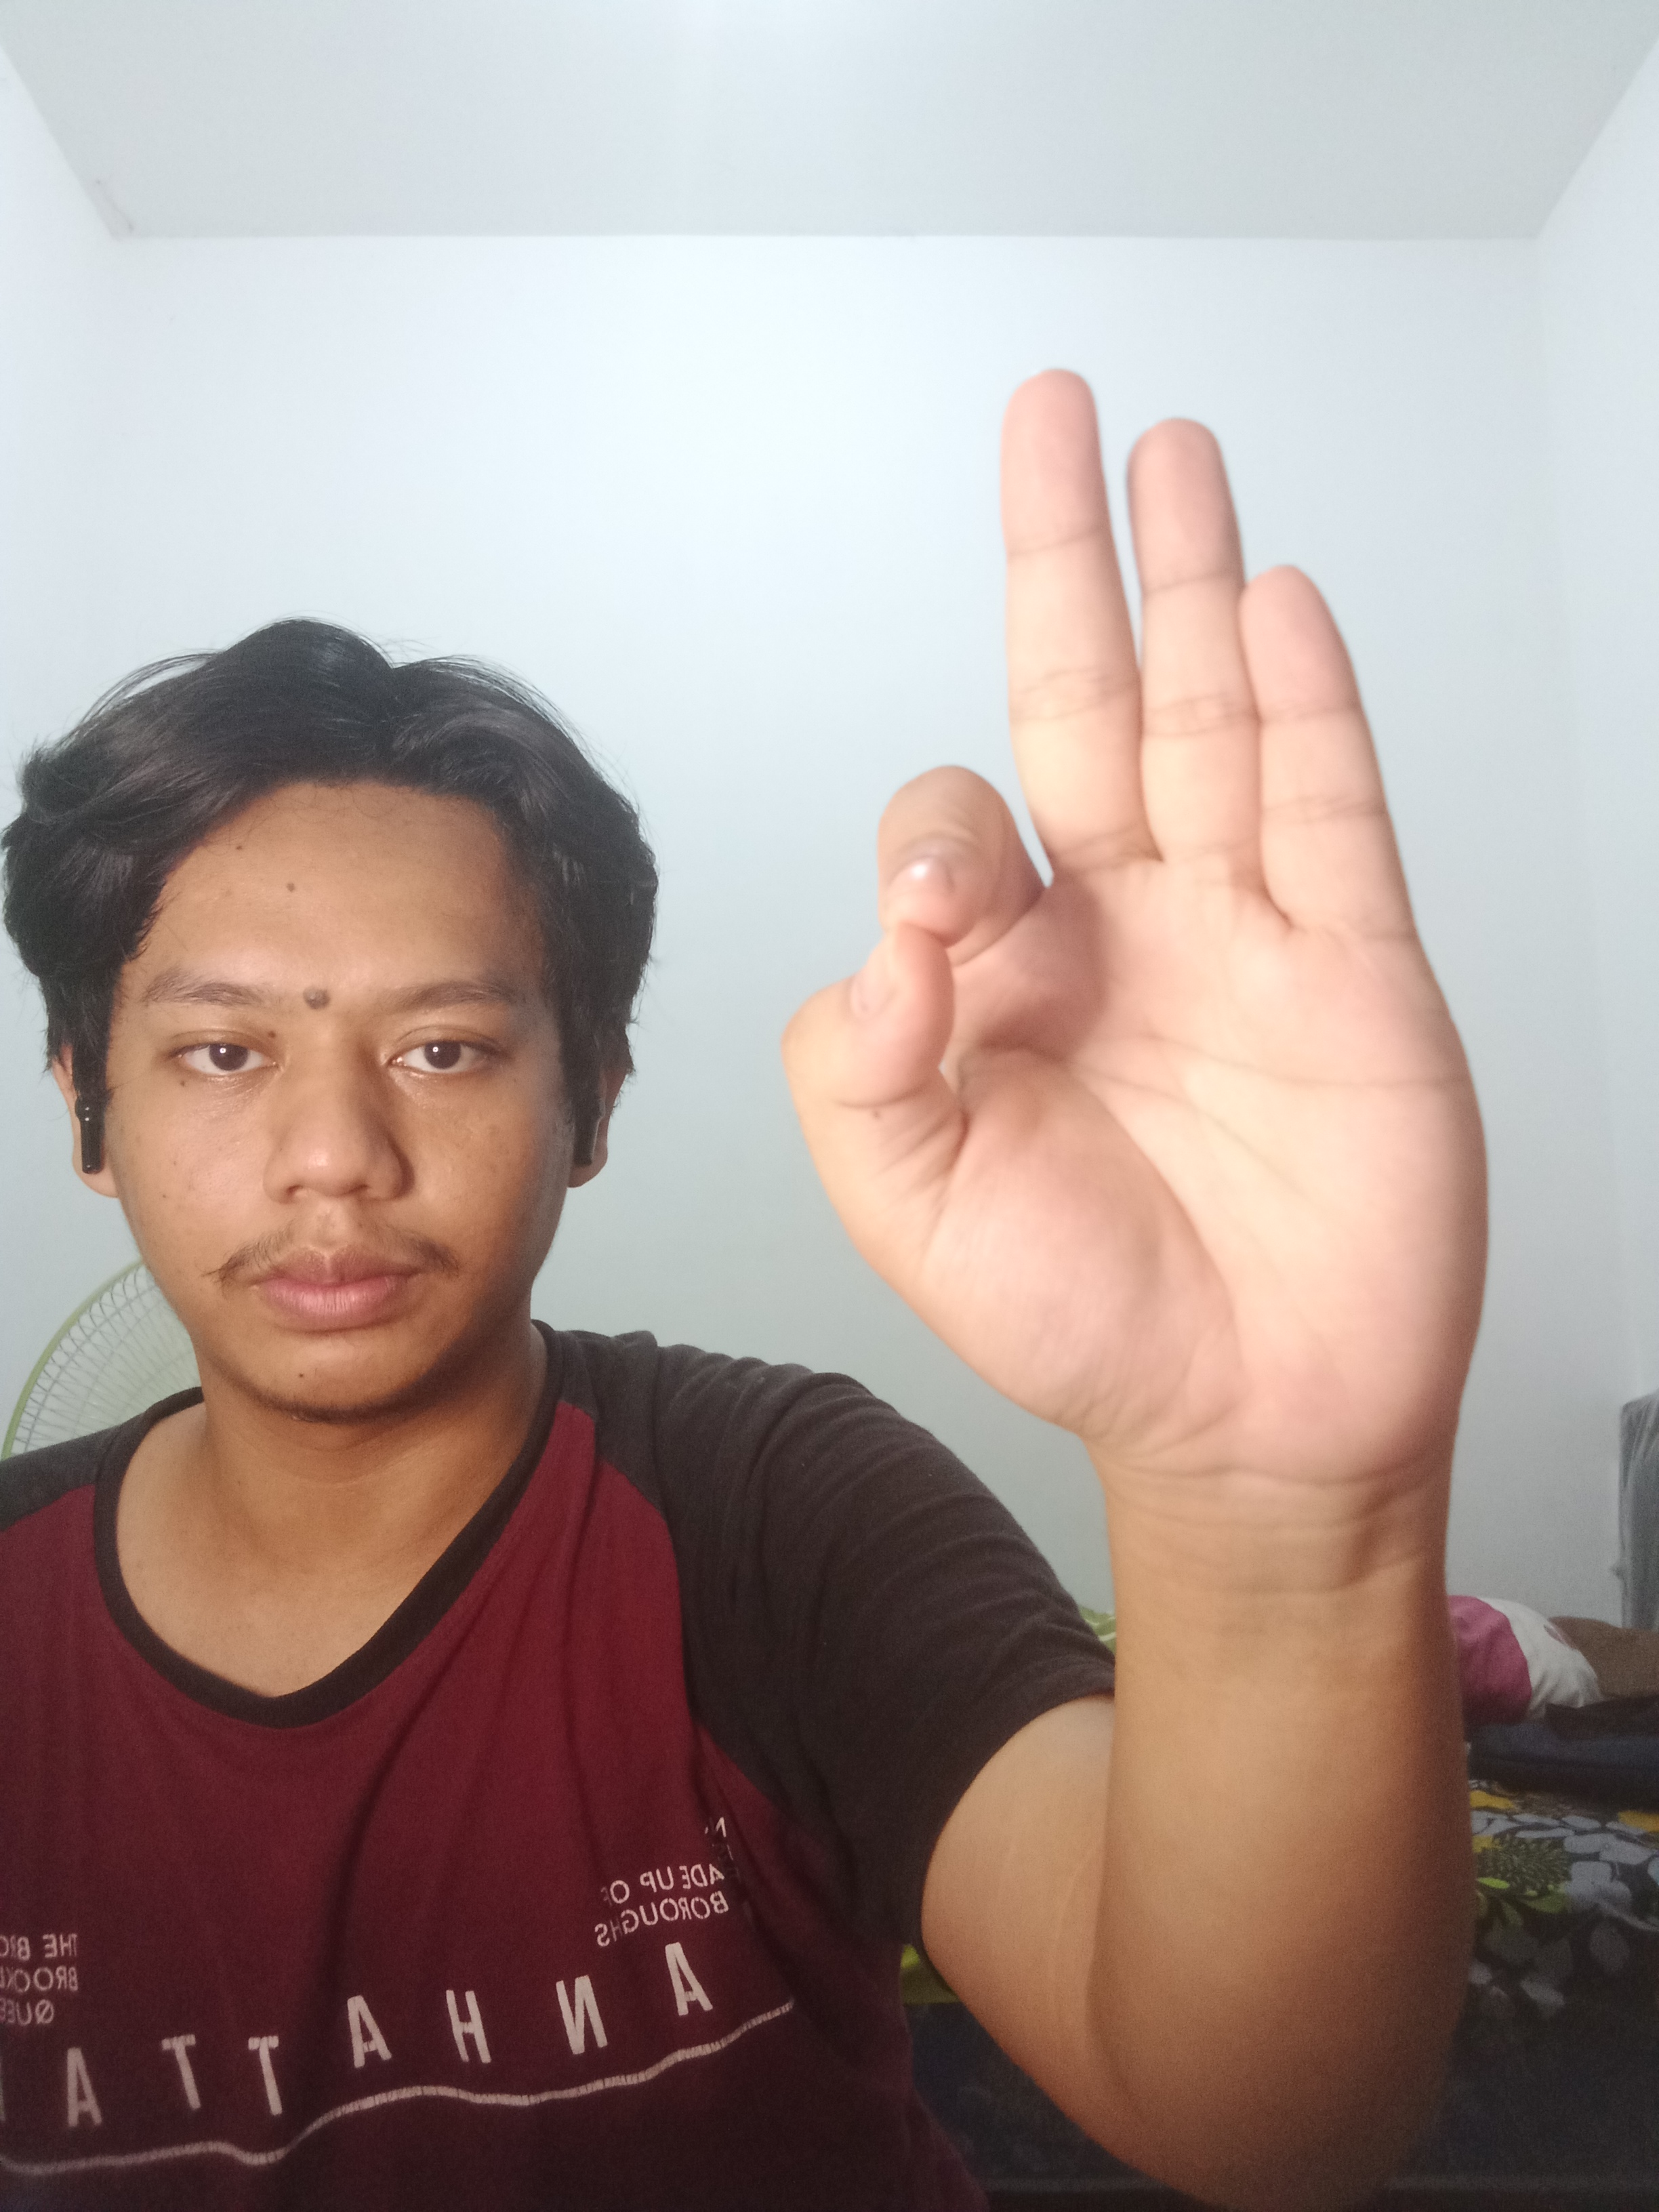F: (767, 361, 1513, 1479)
